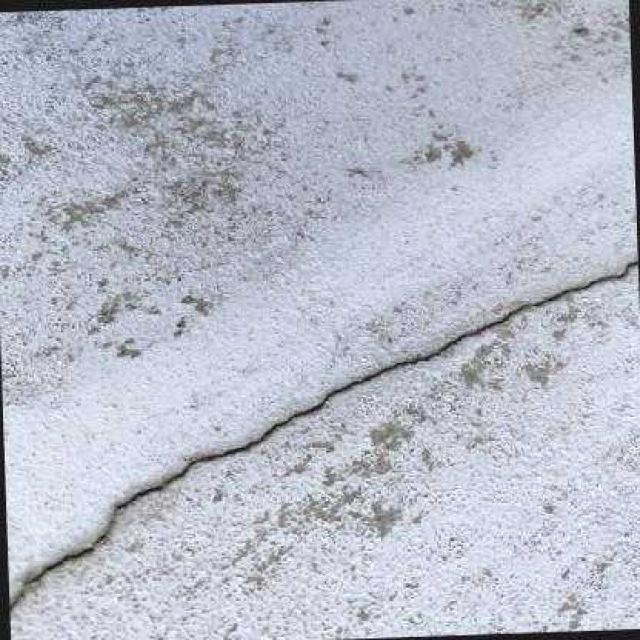D00: (11, 258, 638, 608)
